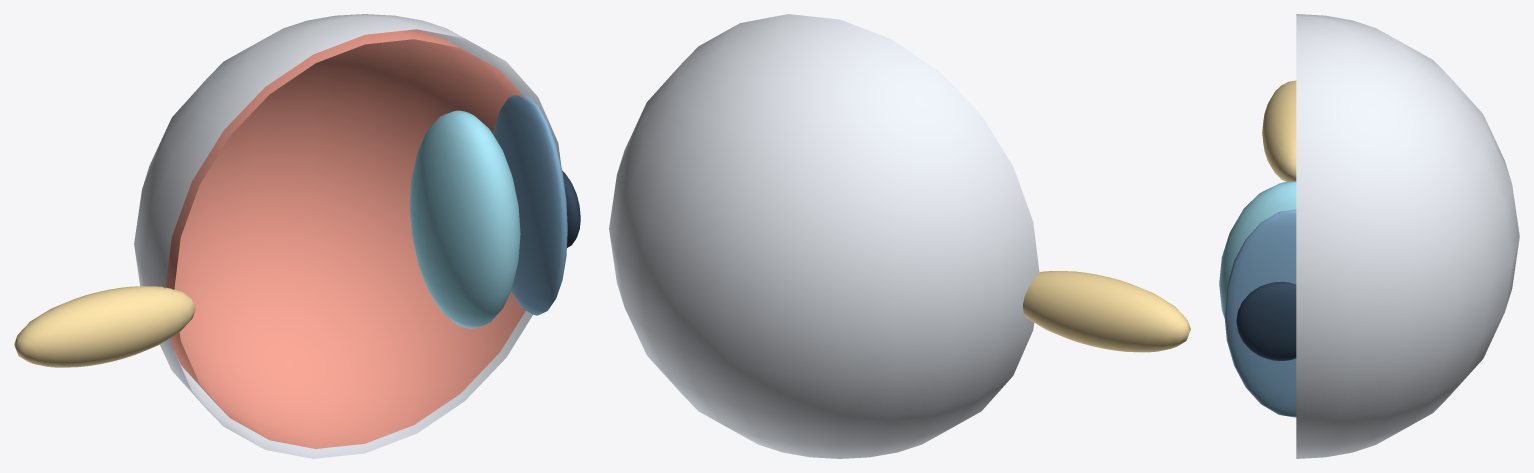
The model's file is human-eye.glb.
The picture shows the model from 3 angles, left to right: view 1: azimuth 30°, elevation 25°; view 2: azimuth 150°, elevation 25°; view 3: azimuth 270°, elevation 25°; orthographic projection. The views are drawn at different scales.
Parts seen in each view (by area): view 1: Retina, Sclera, Lens, Iris, Optic nerve, Pupil; view 2: Sclera, Optic nerve; view 3: Sclera, Iris, Pupil, Optic nerve, Lens.
Boxes of the visible parts, bbox=[...] form: Retina: bbox=[165, 29, 525, 448]; Sclera: bbox=[134, 14, 560, 458]; Lens: bbox=[409, 110, 520, 328]; Iris: bbox=[493, 93, 567, 315]; Optic nerve: bbox=[14, 286, 195, 367]; Pupil: bbox=[562, 171, 580, 247]; Sclera: bbox=[609, 14, 1039, 458]; Optic nerve: bbox=[1023, 271, 1190, 352]; Sclera: bbox=[1296, 14, 1519, 458]; Iris: bbox=[1224, 209, 1296, 417]; Pupil: bbox=[1236, 282, 1296, 360]; Optic nerve: bbox=[1262, 80, 1296, 181]; Lens: bbox=[1219, 181, 1296, 317].
Bounding box in the file's own units: 0.357 × 0.26 × 0.175.
